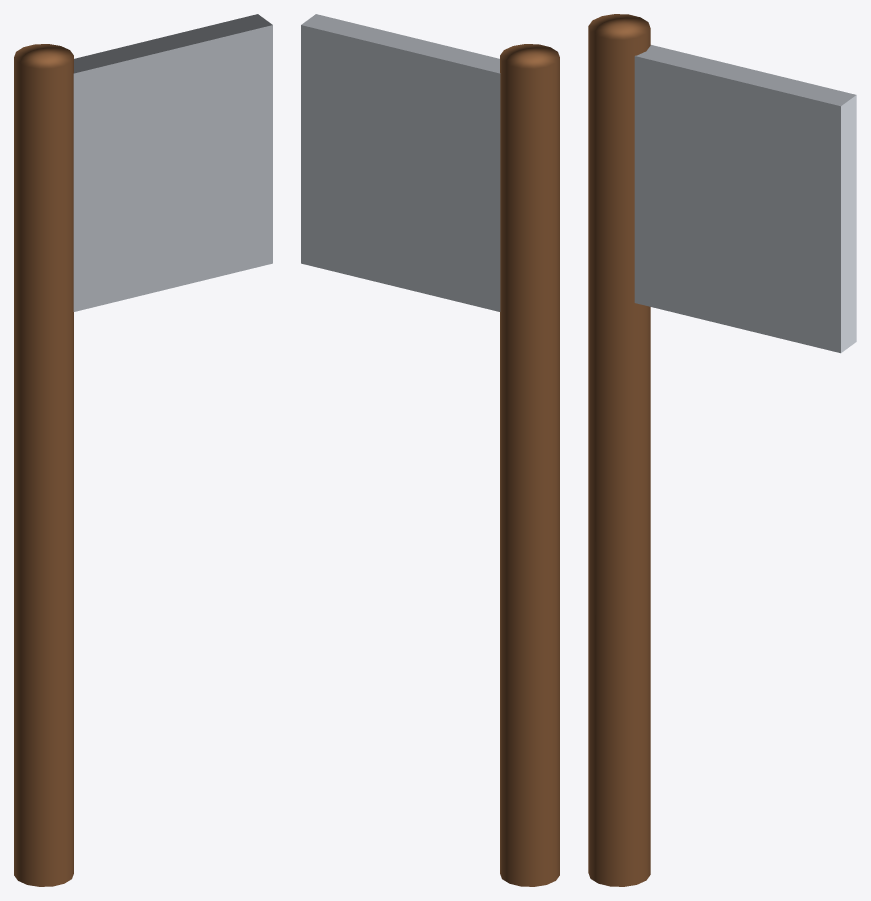
The model's file is machado.obj.
3 renders of one model, left to right at view 1: azimuth 30°, elevation 25°; view 2: azimuth 150°, elevation 25°; view 3: azimuth 330°, elevation 25°, orthographic. The views are drawn at different scales.
Parts seen in each view (by area): view 1: lâmina, cabo; view 2: lâmina, cabo; view 3: lâmina, cabo.
Part boxes in pixels (bbox=[...]): lâmina: bbox=[73, 14, 272, 311]; cabo: bbox=[14, 44, 73, 886]; lâmina: bbox=[301, 14, 500, 311]; cabo: bbox=[500, 44, 559, 886]; lâmina: bbox=[634, 45, 856, 353]; cabo: bbox=[588, 14, 650, 886].
Size of the model in its own units: 0.38 by 1.2 by 0.078.
